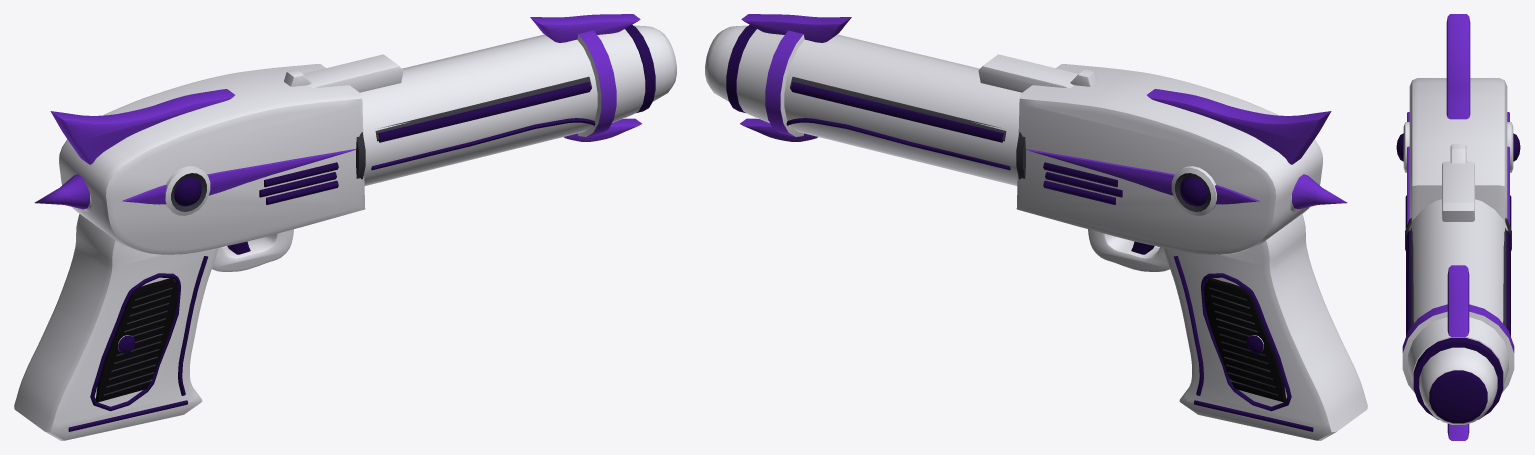
Rendered from raygun_pistol_v001.obj.
3 renders of one model, left to right at view 1: azimuth 30°, elevation 25°; view 2: azimuth 150°, elevation 25°; view 3: azimuth 270°, elevation 25°, orthographic.
Visible parts, largest first — view 1: Receiver_|_rear_body, Barrel_|_chrome_tube,_collar_and_emitter, Grip_|_chrome_frame, Grip_|_right_ribbed_panel, Fin_|_rear_swept, Top_rail, Barrel_|_right_slot_glow, Receiver_|_right_violet_swoosh, Fin_|_front_top, Trigger_guard, Receiver_|_right_eye_ring, Grip_|_right_panel_neon_trim (+6 smaller); view 2: Receiver_|_rear_body, Barrel_|_chrome_tube,_collar_and_emitter, Grip_|_chrome_frame, Grip_|_left_ribbed_panel, Fin_|_rear_swept, Top_rail, Barrel_|_left_slot_glow, Receiver_|_left_violet_swoosh, Fin_|_front_top, Trigger_guard, Receiver_|_left_eye_ring, Grip_|_left_panel_neon_trim (+6 smaller); view 3: Barrel_|_chrome_tube,_collar_and_emitter, Receiver_|_rear_body, Fin_|_rear_swept, Top_rail, Fin_|_front_top, Barrel_|_left_slot_glow, Barrel_|_right_slot_glow, Receiver_|_left_eye_ring, Receiver_|_right_eye_ring, Barrel_|_left_slot_backing, Barrel_|_right_slot_backing, Fin_|_front_bottom (+4 smaller).
Part boxes in pixels (<box>): Receiver_|_rear_body: <box>59,64,365,254</box>; Barrel_|_chrome_tube,_collar_and_emitter: <box>360,25,676,185</box>; Grip_|_chrome_frame: <box>14,214,218,440</box>; Grip_|_right_ribbed_panel: <box>95,278,178,402</box>; Fin_|_rear_swept: <box>50,89,234,164</box>; Top_rail: <box>303,54,403,92</box>; Barrel_|_right_slot_glow: <box>378,82,591,142</box>; Receiver_|_right_violet_swoosh: <box>122,149,356,204</box>; Fin_|_front_top: <box>530,14,640,42</box>; Trigger_guard: <box>212,229,293,271</box>; Receiver_|_right_eye_ring: <box>165,166,210,215</box>; Grip_|_right_panel_neon_trim: <box>90,273,180,411</box>; Receiver_|_rear_body: <box>1016,64,1322,254</box>; Barrel_|_chrome_tube,_collar_and_emitter: <box>705,25,1021,185</box>; Grip_|_chrome_frame: <box>1163,214,1367,440</box>; Grip_|_left_ribbed_panel: <box>1203,278,1286,402</box>; Fin_|_rear_swept: <box>1147,89,1331,164</box>; Top_rail: <box>978,54,1078,92</box>; Barrel_|_left_slot_glow: <box>790,82,1003,142</box>; Receiver_|_left_violet_swoosh: <box>1025,149,1259,204</box>; Fin_|_front_top: <box>741,14,851,42</box>; Trigger_guard: <box>1088,229,1169,271</box>; Receiver_|_left_eye_ring: <box>1171,166,1216,215</box>; Grip_|_left_panel_neon_trim: <box>1201,273,1291,411</box>; Barrel_|_chrome_tube,_collar_and_emitter: <box>1402,199,1514,424</box>; Receiver_|_rear_body: <box>1409,78,1507,221</box>; Fin_|_rear_swept: <box>1446,14,1470,119</box>; Top_rail: <box>1442,161,1474,221</box>; Fin_|_front_top: <box>1447,265,1469,336</box>; Barrel_|_left_slot_glow: <box>1506,230,1510,336</box>; Barrel_|_right_slot_glow: <box>1406,230,1410,336</box>; Receiver_|_left_eye_ring: <box>1507,122,1520,172</box>; Receiver_|_right_eye_ring: <box>1396,122,1409,172</box>; Barrel_|_left_slot_backing: <box>1503,228,1506,327</box>; Barrel_|_right_slot_backing: <box>1410,228,1413,327</box>; Fin_|_front_bottom: <box>1447,423,1469,440</box>.
Bounding box in the file's own units: 0.303 × 0.1445 × 0.0522.
